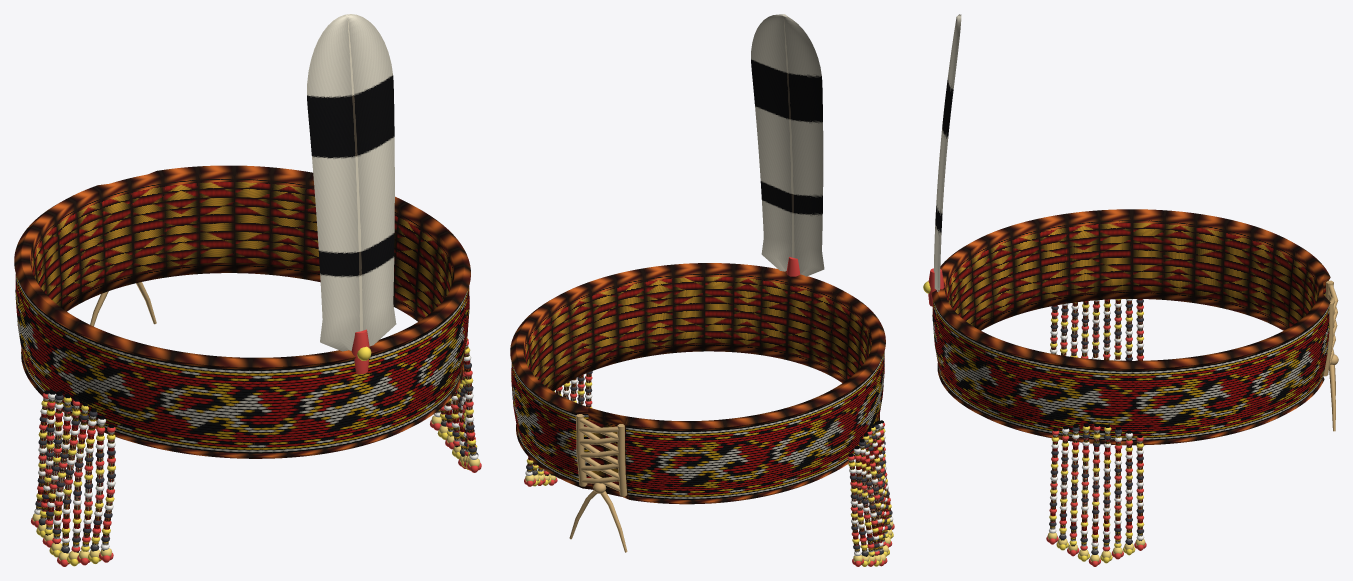
Rendered from 08_Kalimantan_Lavung_Manik.fbx.
3 renders of one model, left to right at view 1: azimuth 30°, elevation 25°; view 2: azimuth 150°, elevation 25°; view 3: azimuth 270°, elevation 25°, orthographic. The views are drawn at different scales.
Visible parts, largest first — view 1: Dayak_Lavung_Manik; view 2: Dayak_Lavung_Manik; view 3: Dayak_Lavung_Manik.
Boxes of the visible parts, <box> form: Dayak_Lavung_Manik: <box>14,14,481,566</box>; Dayak_Lavung_Manik: <box>510,14,894,566</box>; Dayak_Lavung_Manik: <box>923,14,1338,566</box>.
Bounding box in the file's own units: 150 × 193 × 156.
